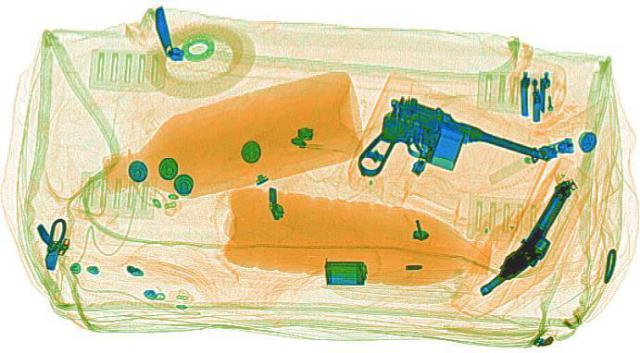Gun: (311, 92, 554, 211), (474, 177, 590, 298)
